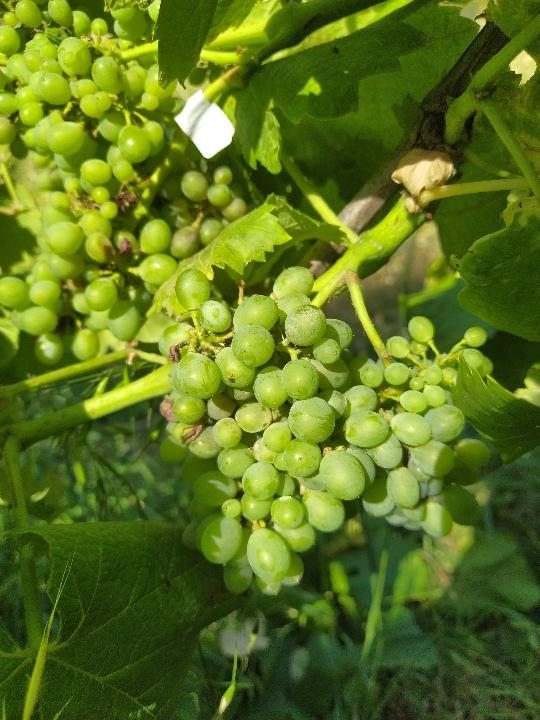grape: (147, 261, 502, 603)
